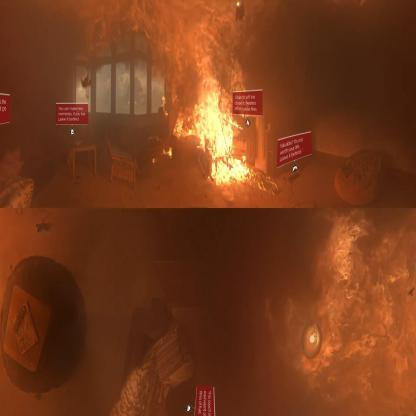fire: (174, 65, 270, 192)
